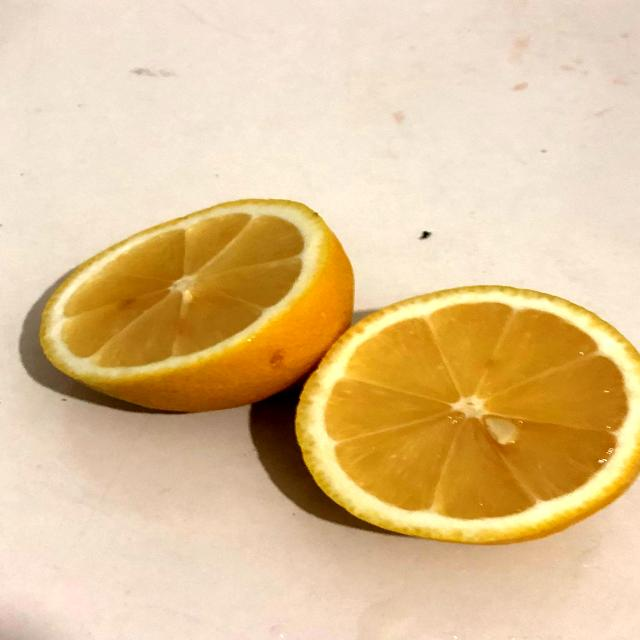lemon: (286, 273, 638, 549), (29, 190, 389, 412)
